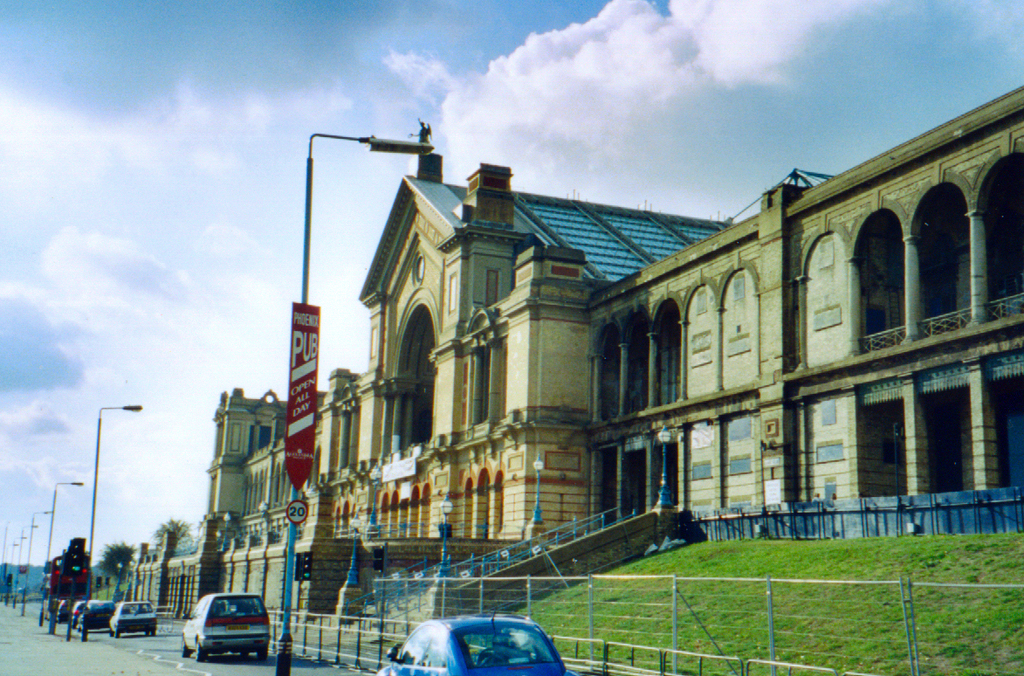Car: (381, 609, 580, 675), (171, 600, 269, 662), (102, 597, 158, 630), (81, 599, 104, 625)
